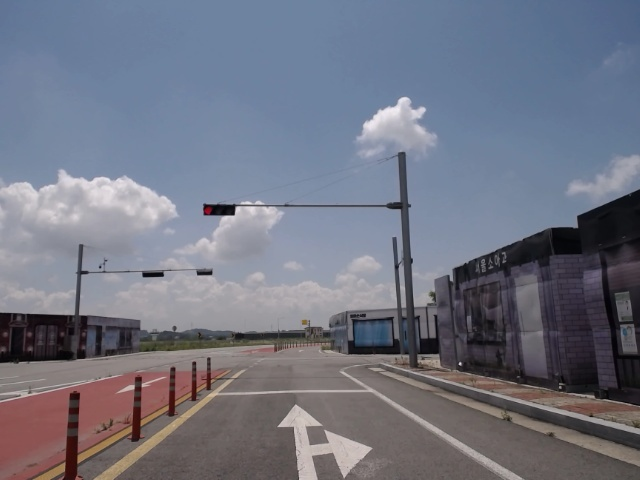red_3: (201, 202, 238, 217)
